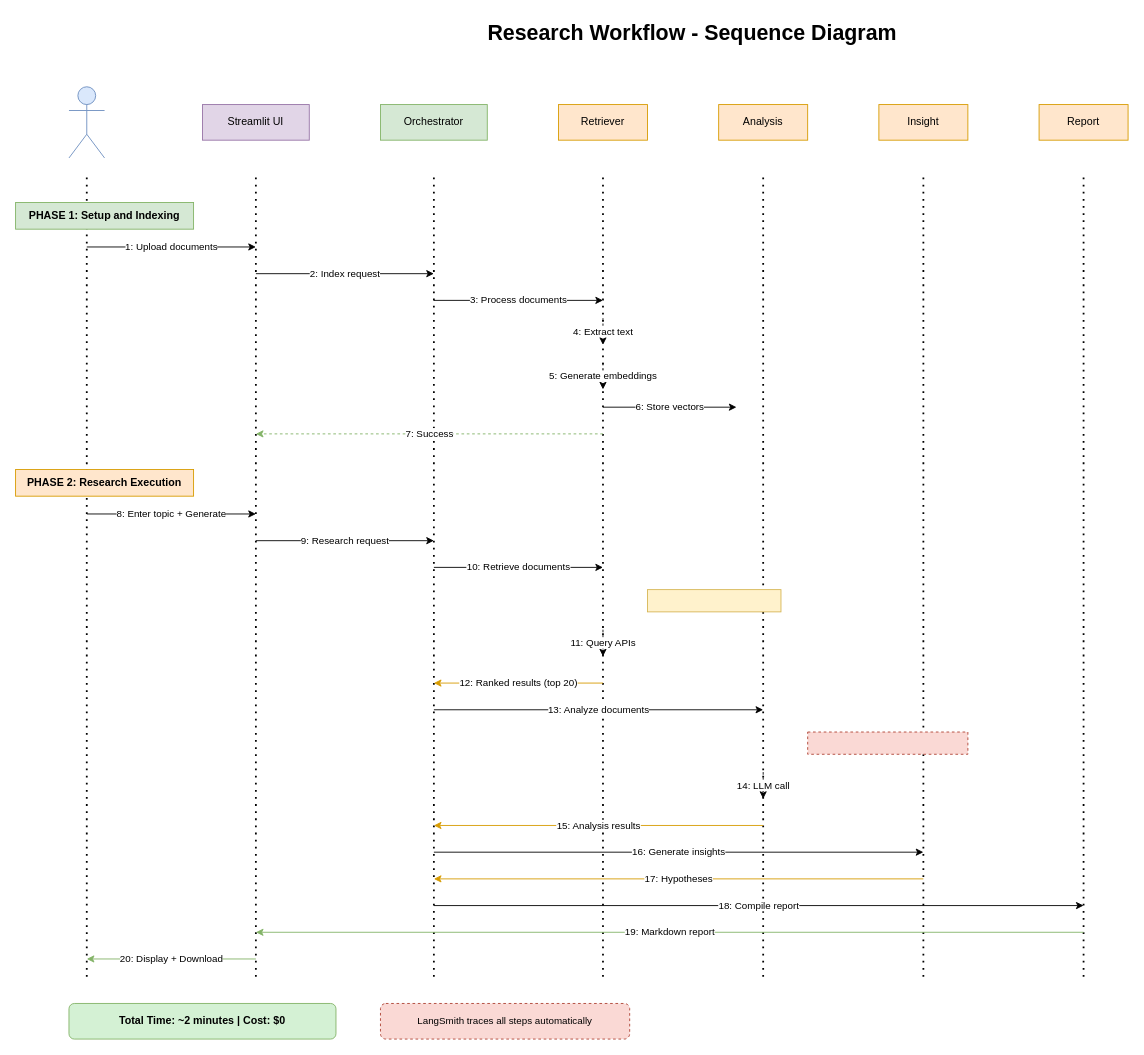
Some shapes in this 1144 by 1055 pixel diagram are drawn without their labels. The shapes that lost their labels are listed below. From the top down, each one's centre as x and y in pixels, then its label:
At point 86,122: "User".
At point 714,600: "Multi-Source Retrieval".
At point 887,742: "For each document (20 docs)".
